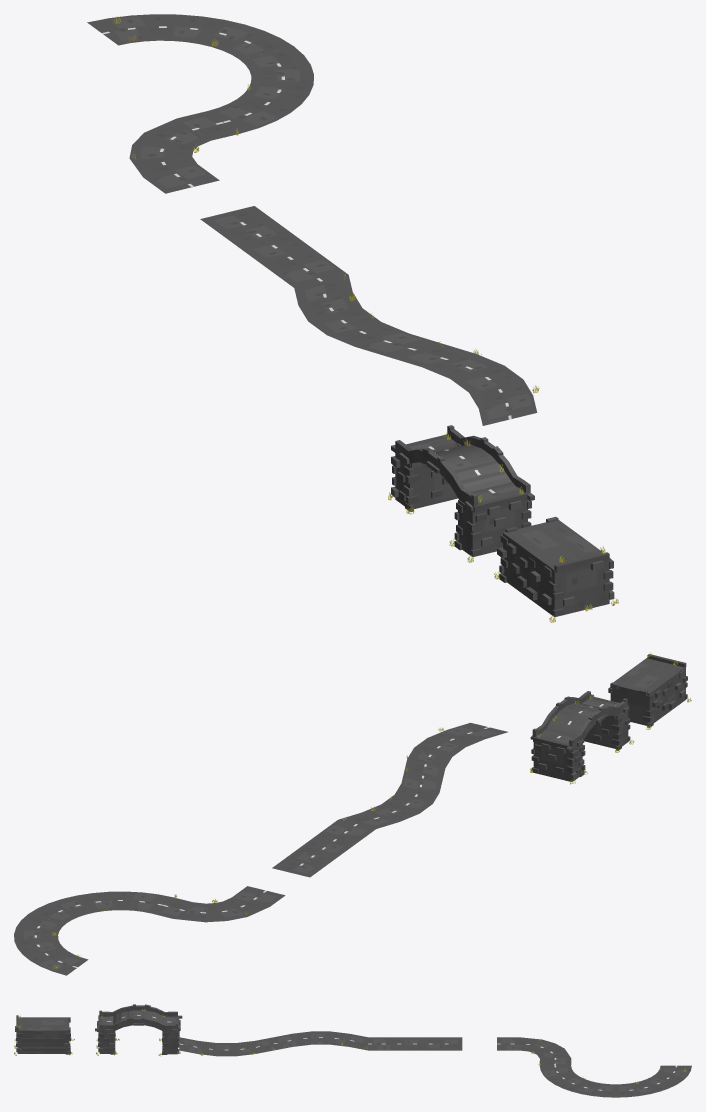
The model's file is SM_Roads.fbx.
The picture shows the model from 3 angles, top to bottom: view 1: azimuth 30°, elevation 25°; view 2: azimuth 150°, elevation 25°; view 3: azimuth 270°, elevation 25°; orthographic projection. The views are drawn at different scales.
Visible parts, largest first — view 1: SM_Road_05, SM_Road_04, SM_Road_02, SM_Road_06, SM_Road_03, SM_Road_01; view 2: SM_Road_05, SM_Road_04, SM_Road_02, SM_Road_06, SM_Road_01, SM_Road_03; view 3: SM_Road_04, SM_Road_02, SM_Road_05, SM_Road_06, SM_Road_03, SM_Road_01.
Part boxes in pixels (x1,y1,x2,y2): SM_Road_05: [388, 425, 534, 562]; SM_Road_04: [294, 274, 539, 425]; SM_Road_02: [87, 14, 313, 133]; SM_Road_06: [494, 516, 618, 622]; SM_Road_03: [200, 206, 348, 287]; SM_Road_01: [129, 111, 238, 193]; SM_Road_05: [530, 691, 634, 784]; SM_Road_04: [338, 722, 507, 828]; SM_Road_02: [14, 891, 173, 975]; SM_Road_06: [608, 652, 691, 729]; SM_Road_01: [152, 886, 285, 922]; SM_Road_03: [272, 820, 375, 877]; SM_Road_04: [179, 1031, 367, 1056]; SM_Road_02: [540, 1065, 691, 1097]; SM_Road_05: [95, 1004, 182, 1056]; SM_Road_06: [14, 1015, 74, 1055]; SM_Road_03: [368, 1037, 462, 1050]; SM_Road_01: [497, 1037, 571, 1065].
Bounding box in the file's own units: 50.64 × 10.6 × 173.
